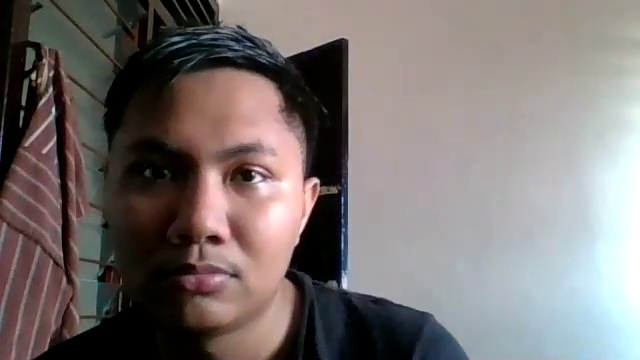Not Distracted: (102, 95, 317, 329)
